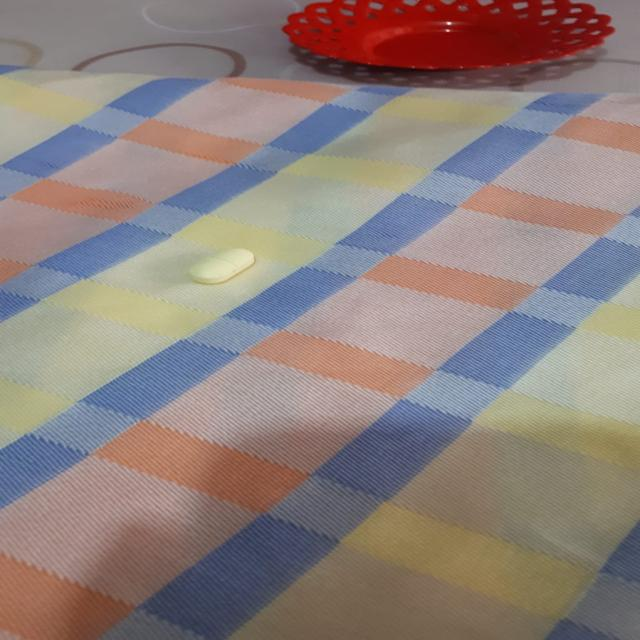pills: (183, 242, 265, 290)
